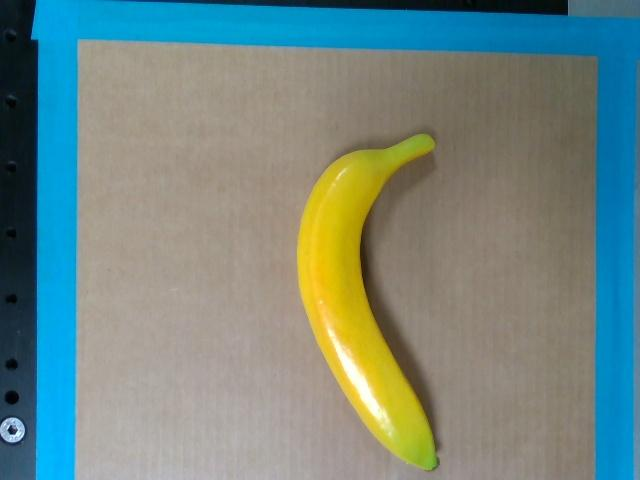banana: (299, 132, 438, 471)
